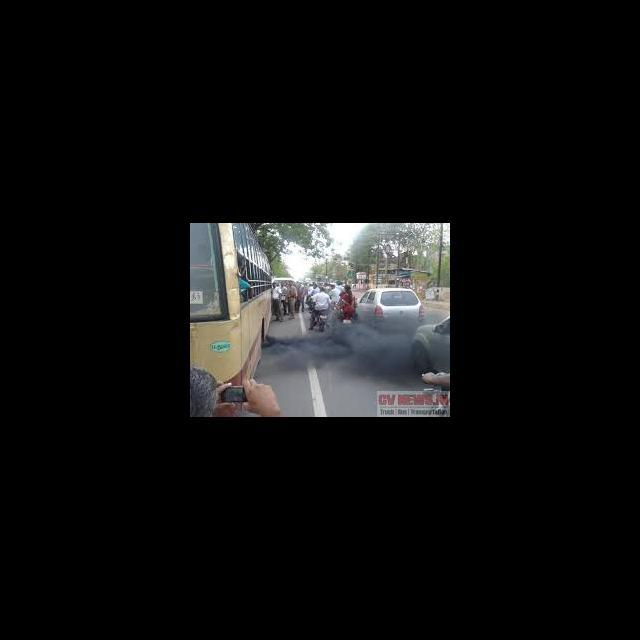Smoke: (265, 330, 409, 372)
